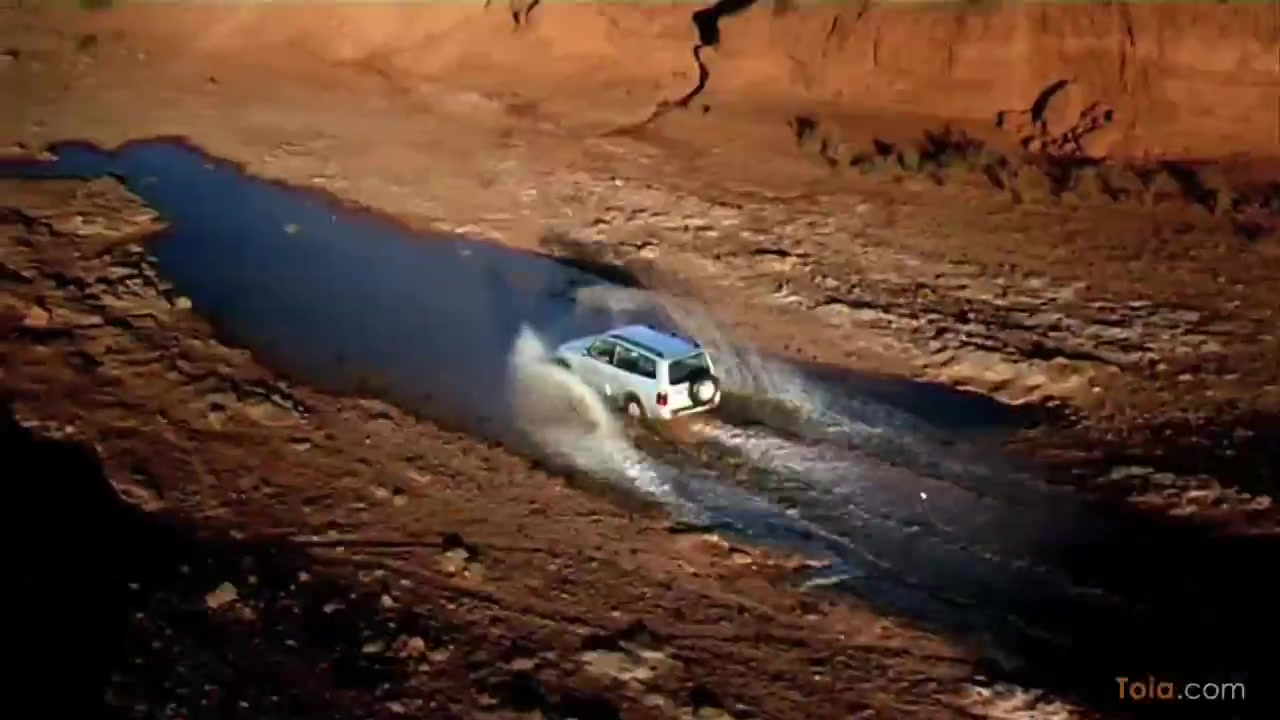car: (557, 317, 725, 427)
